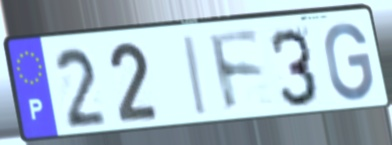2: (53, 46, 109, 132), (111, 39, 164, 128)
3: (270, 26, 322, 109)
F: (205, 28, 267, 117)
G: (322, 20, 376, 103)
I: (183, 34, 211, 120)
